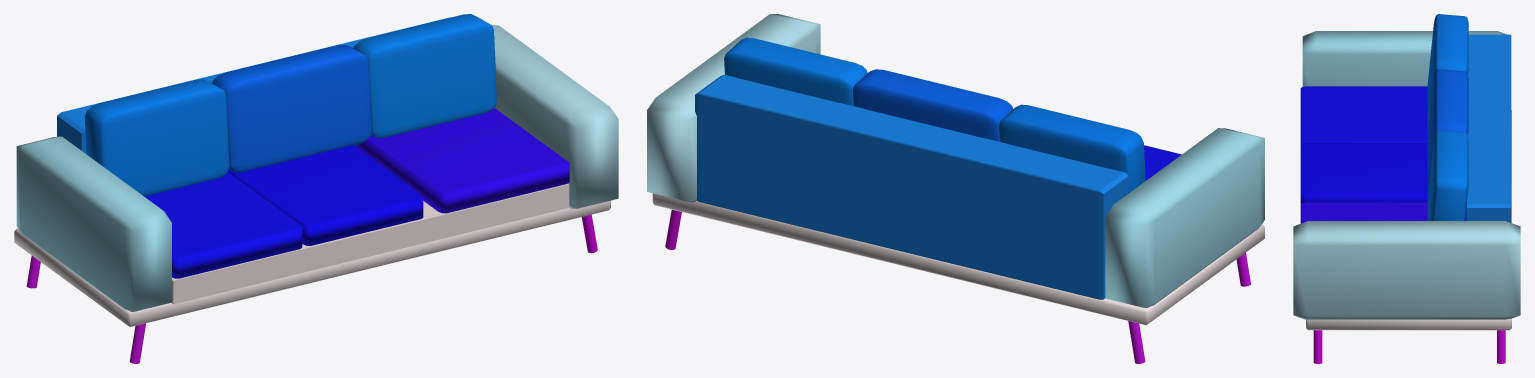
The model's file is Koltuk.glb.
The picture shows the model from 3 angles, left to right: view 1: azimuth 30°, elevation 25°; view 2: azimuth 150°, elevation 25°; view 3: azimuth 270°, elevation 25°; orthographic projection. The views are drawn at different scales.
Parts seen in each view (by area): view 1: Cube.003, Cube, Cube.009, Cube.006, Cube.008, Cube.007, Cube.001, Cube.005, Cube.002, Cube.004, Cylinder; view 2: Cube.004, Cube.003, Cube, Cube.001, Cube.009, Cube.007, Cube.008, Cylinder, Cube.002; view 3: Cube.001, Cube.004, Cube.005, Cube.003, Cube.002, Cube.008, Cube.009, Cube, Cube.006, Cube.007, Cylinder.001.
Part boxes in pixels (x1,y1,x2,y2): Cube.003: (16,136,171,311); Cube: (14,183,610,326); Cube.009: (212,44,371,172); Cube.006: (355,108,569,213); Cube.008: (353,14,496,138); Cube.007: (84,79,229,196); Cube.001: (492,25,618,208); Cube.005: (228,145,423,245); Cube.002: (144,172,302,278); Cube.004: (57,17,450,153); Cylinder: (26,255,145,363); Cube.004: (695,74,1128,299); Cube.003: (1105,128,1264,307); Cube: (652,193,1264,325); Cube.001: (647,14,820,202); Cube.009: (852,69,1013,141); Cube.007: (998,104,1145,192); Cube.008: (724,37,867,105); Cylinder: (1128,252,1250,363); Cube.002: (1144,145,1181,180); Cube.001: (1293,221,1520,320); Cube.004: (1466,34,1511,222); Cube.005: (1300,143,1427,203); Cube.003: (1302,31,1506,86); Cube.002: (1300,86,1427,144); Cube.008: (1427,130,1468,220); Cube.009: (1427,69,1468,195); Cube: (1306,110,1511,330); Cube.006: (1300,202,1466,223); Cube.007: (1427,14,1468,134); Cylinder.001: (1313,330,1505,363).
Size of the model in its own units: 2.01 by 0.7519 by 0.9166.
